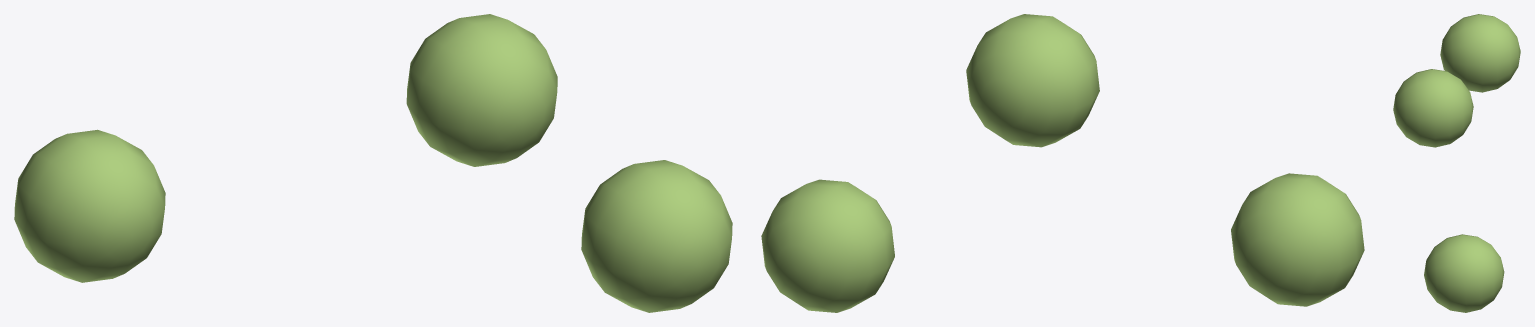
The model's file is superomedial-superficial-inguinal-nodes-l.glb.
3 views of the same model, side by side, from view 1: azimuth 30°, elevation 25°; view 2: azimuth 150°, elevation 25°; view 3: azimuth 270°, elevation 25° (orthographic). The views are drawn at different scales.
Visible parts, largest first — view 1: Superomedial superficial inguinal nodes.l; view 2: Superomedial superficial inguinal nodes.l; view 3: Superomedial superficial inguinal nodes.l.
Part boxes in pixels (x1=…): Superomedial superficial inguinal nodes.l: x1=14, y1=14, x2=732, y2=312; Superomedial superficial inguinal nodes.l: x1=761, y1=14, x2=1364, y2=312; Superomedial superficial inguinal nodes.l: x1=1393, y1=14, x2=1520, y2=312.
Bounding box in the file's own units: 0.0133 × 0.00661 × 0.00412.
